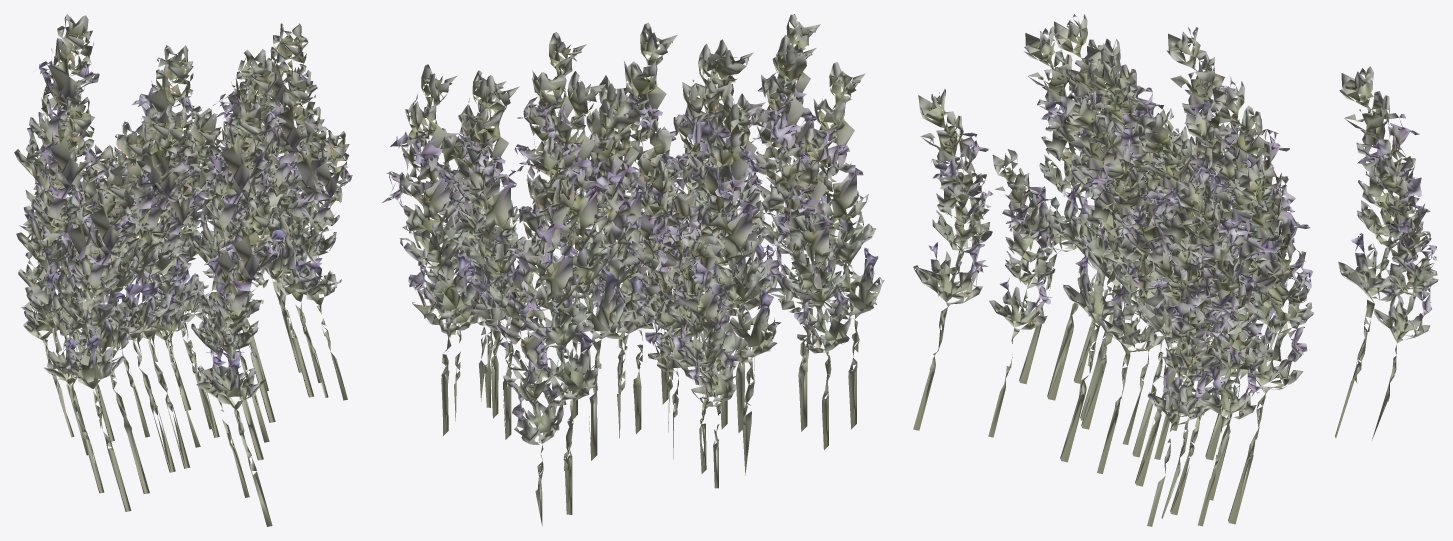
File: lavender_bush.glb
3 renders of one model, left to right at view 1: azimuth 30°, elevation 25°; view 2: azimuth 150°, elevation 25°; view 3: azimuth 270°, elevation 25°, orthographic. The views are drawn at different scales.
Size of the model in its own units: 0.5014 by 0.5077 by 0.6278.
